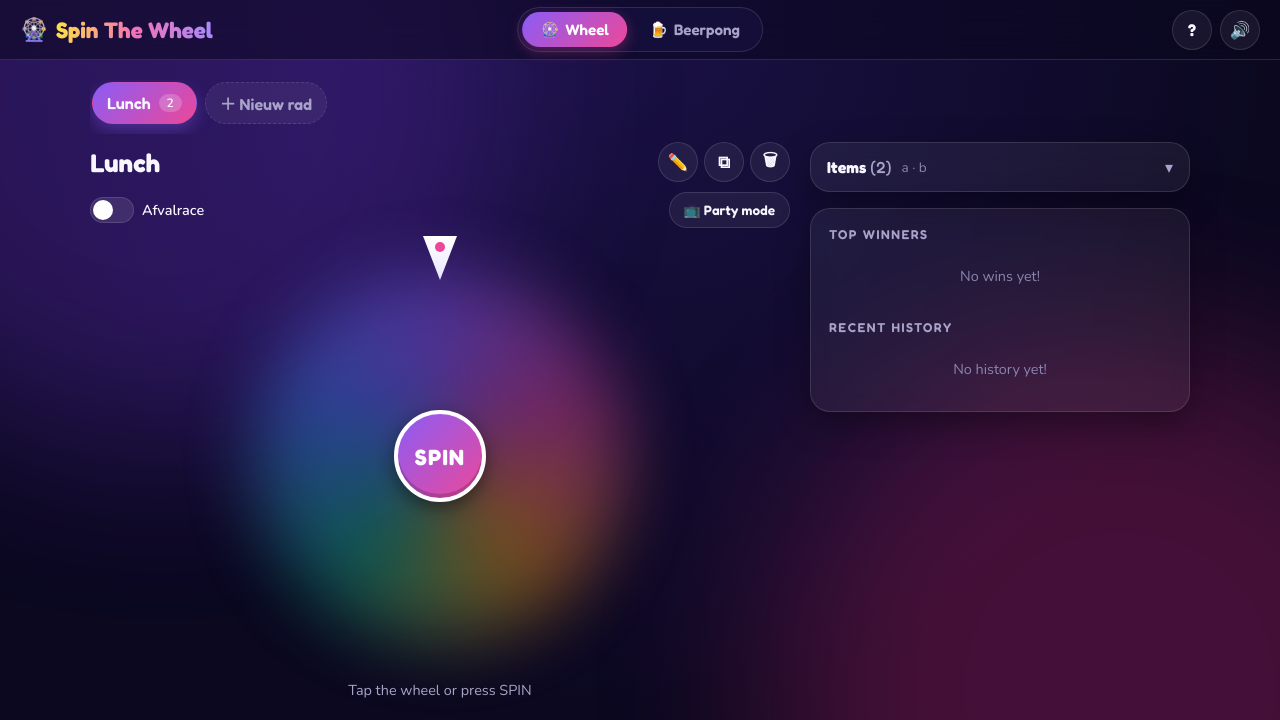
Test case: duplicate a wheel
Expected: the heading "Lunch" is shown, [90,146,160,178]
Click the button named "Kopieer rad".
click(724, 162)  # box [704,142,744,182]
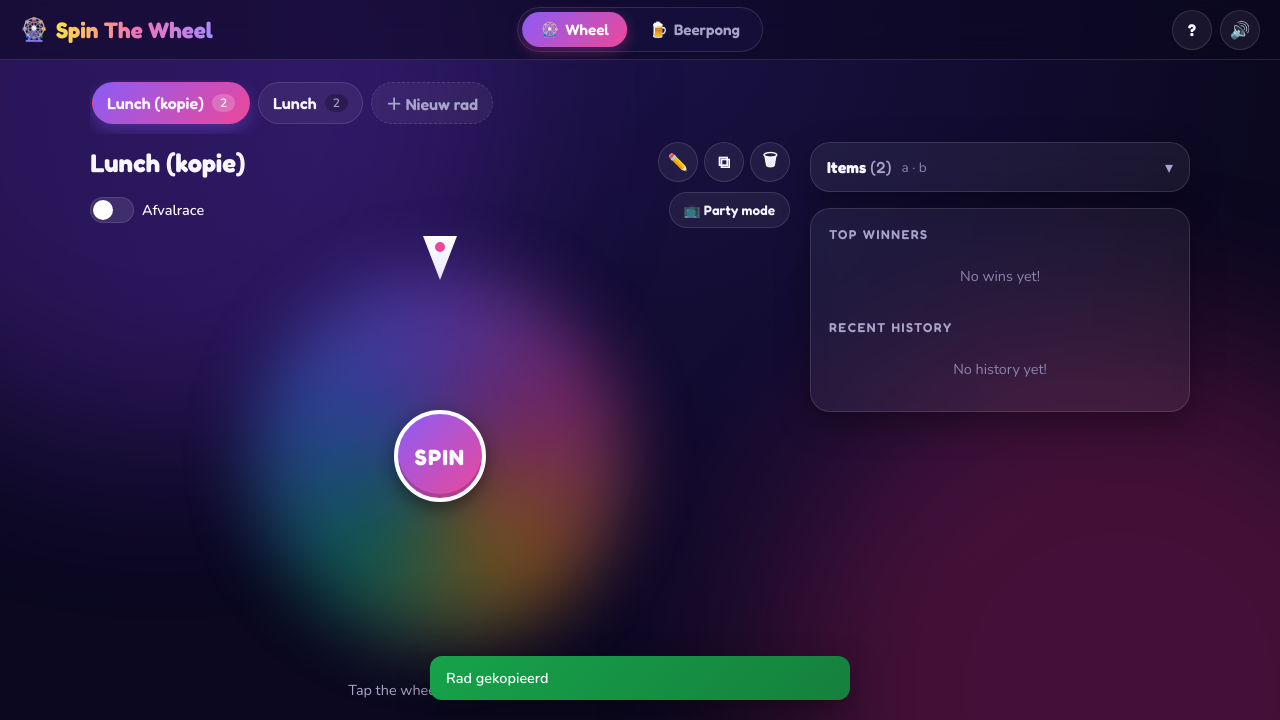
Now the heading "Lunch (kopie)" is shown, box [90,146,245,178]
